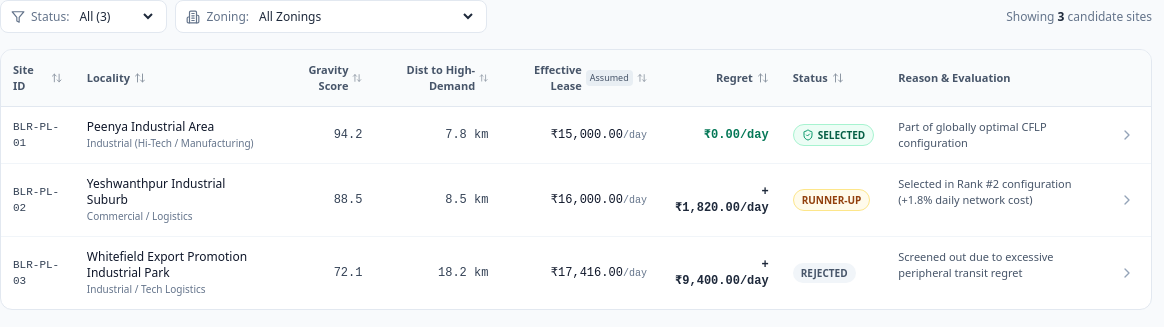
CandidatesTable Component › filters candidates by status (Selected, Runner-up, Rejected)
Select "Selected" in the dropdown named "Filter candidates by status" at {"x": 116, "y": 16}, box [75,7,156,26]
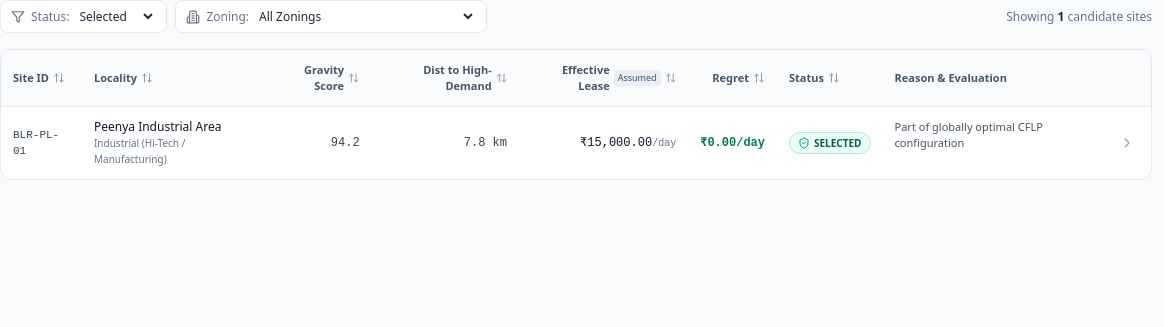
Expected: the text "Peenya Industrial Area" is shown, [94,118,221,135]
Expected: the text "Whitefield Export Promotion Industrial Park" is gone
